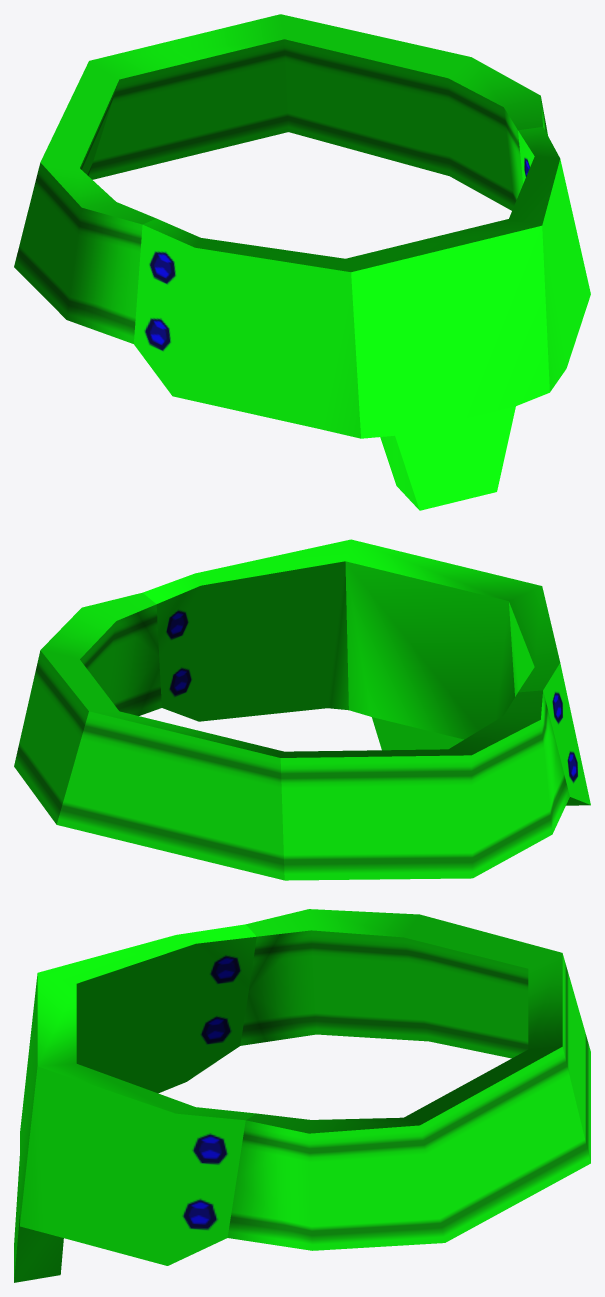
3 renders of one model, top to bottom at view 1: azimuth 30°, elevation 25°; view 2: azimuth 150°, elevation 25°; view 3: azimuth 270°, elevation 25°, orthographic.
Parts seen in each view (by area): view 1: Headband; view 2: Headband; view 3: Headband.
Part boxes in pixels (x1,y1,x2,y2): Headband: (14,14,590,510); Headband: (14,539,590,880); Headband: (14,909,590,1282).
Bounding box in the file's own units: 0.2328 × 0.1207 × 0.2388.
1 material, 1 textured.
